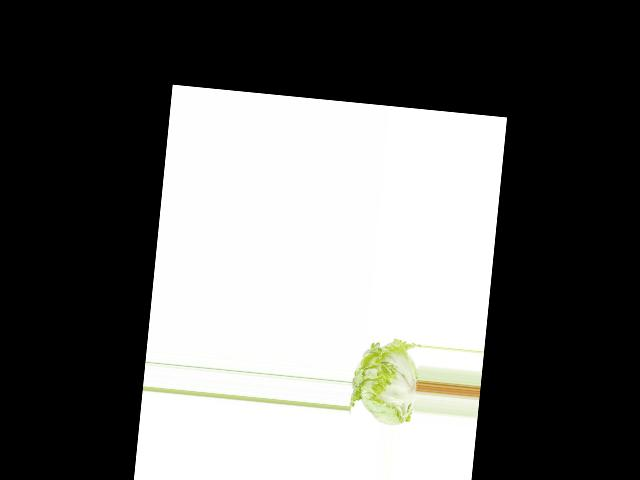lettuce: (348, 331, 422, 430)
